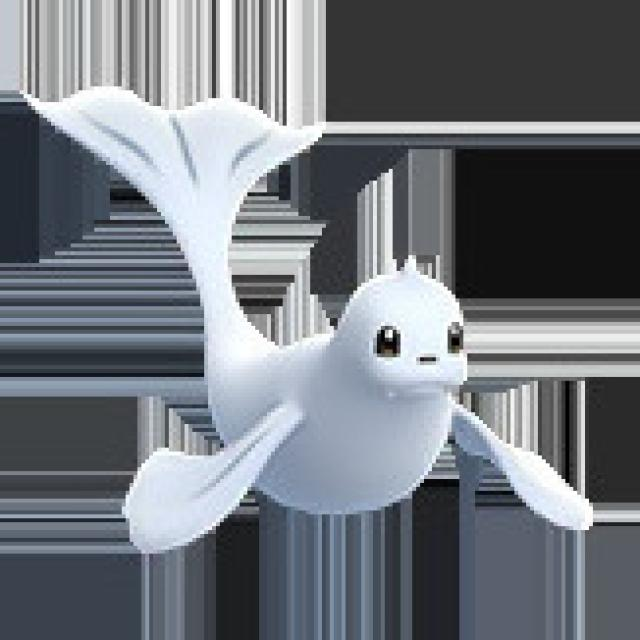Dewgong: (68, 94, 494, 532)
